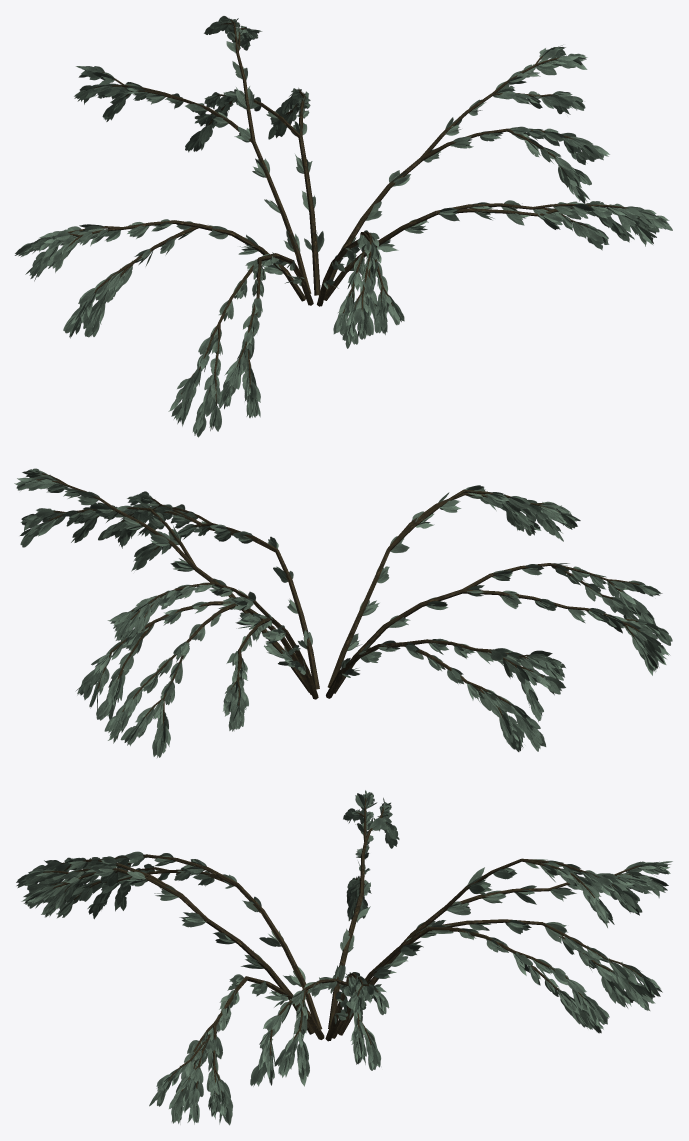
The model's file is willow_shrub_v01.glb.
The picture shows the model from 3 angles, top to bottom: view 1: azimuth 30°, elevation 25°; view 2: azimuth 150°, elevation 25°; view 3: azimuth 270°, elevation 25°; orthographic projection. The views are drawn at different scales.
Visible parts, largest first — view 1: willow_shrub_v01; view 2: willow_shrub_v01; view 3: willow_shrub_v01.
Boxes of the visible parts, <box> form: willow_shrub_v01: <box>15,16,672,437</box>; willow_shrub_v01: <box>14,468,672,757</box>; willow_shrub_v01: <box>16,790,672,1125</box>.
Size of the model in its own units: 6.8 by 2.13 by 6.63.
2 materials, 2 textured.
